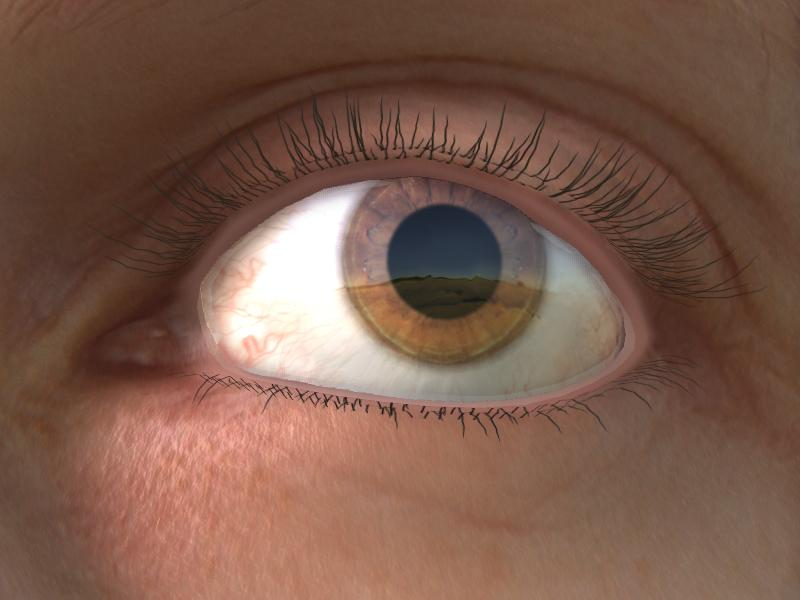eye: (342, 178, 552, 368)
